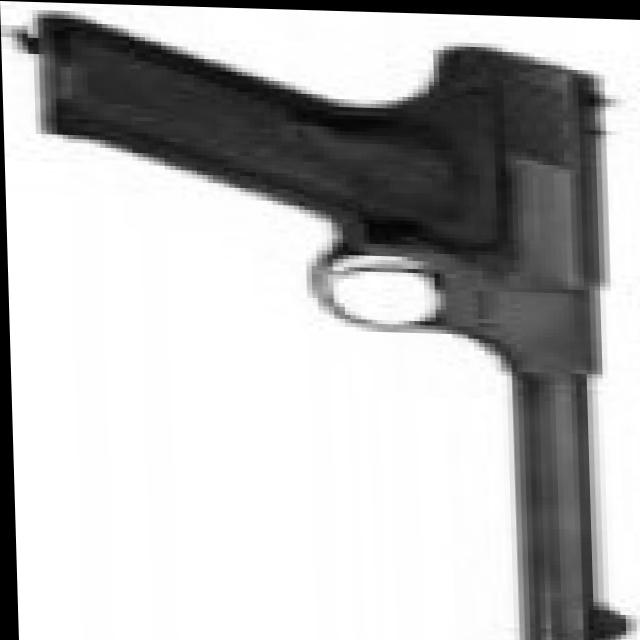handgun: (48, 13, 640, 640)
